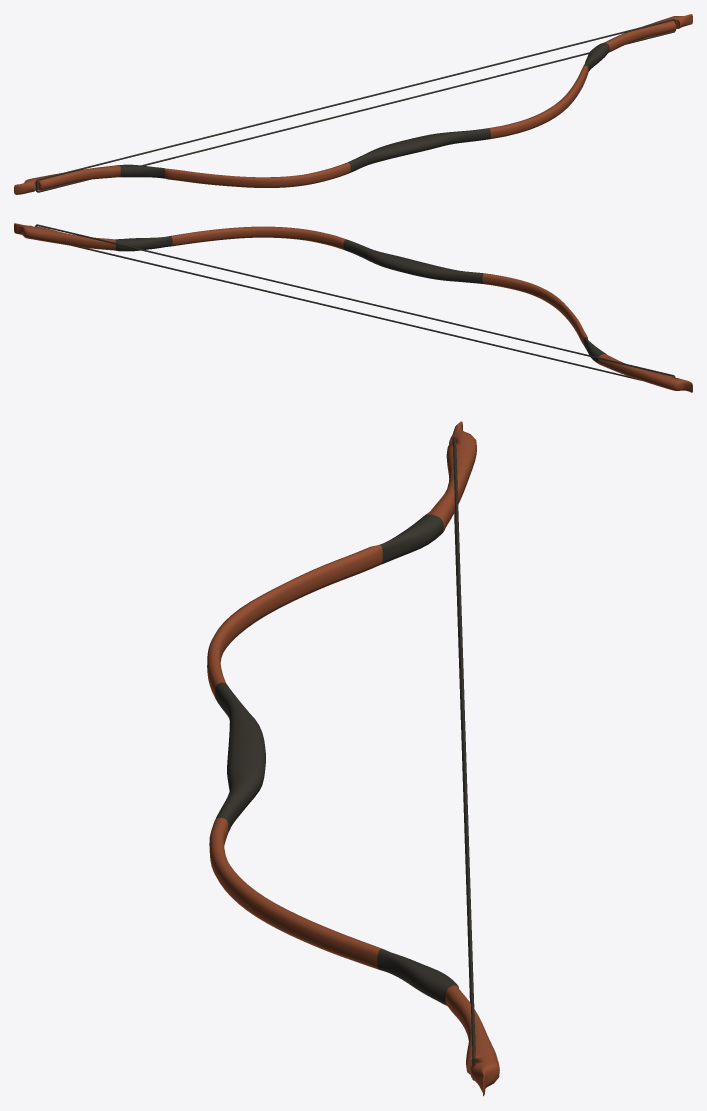
The picture shows the model from 3 angles, top to bottom: view 1: azimuth 30°, elevation 25°; view 2: azimuth 150°, elevation 25°; view 3: azimuth 270°, elevation 25°; orthographic projection. The views are drawn at different scales.
Parts seen in each view (by area): view 1: 96.1, 96.firststep; view 2: 96.1, 96.firststep; view 3: 96.1, 96.firststep.
Part boxes in pixels (left/top/right/bottom): 96.1: left=14, top=14, right=692, bottom=194; 96.firststep: left=35, top=19, right=676, bottom=192; 96.1: left=14, top=223, right=692, bottom=392; 96.firststep: left=35, top=224, right=675, bottom=380; 96.1: left=207, top=421, right=499, bottom=1096; 96.firststep: left=452, top=437, right=475, bottom=1080.
Size of the model in its own units: 76.03 by 1.48 by 14.3.
